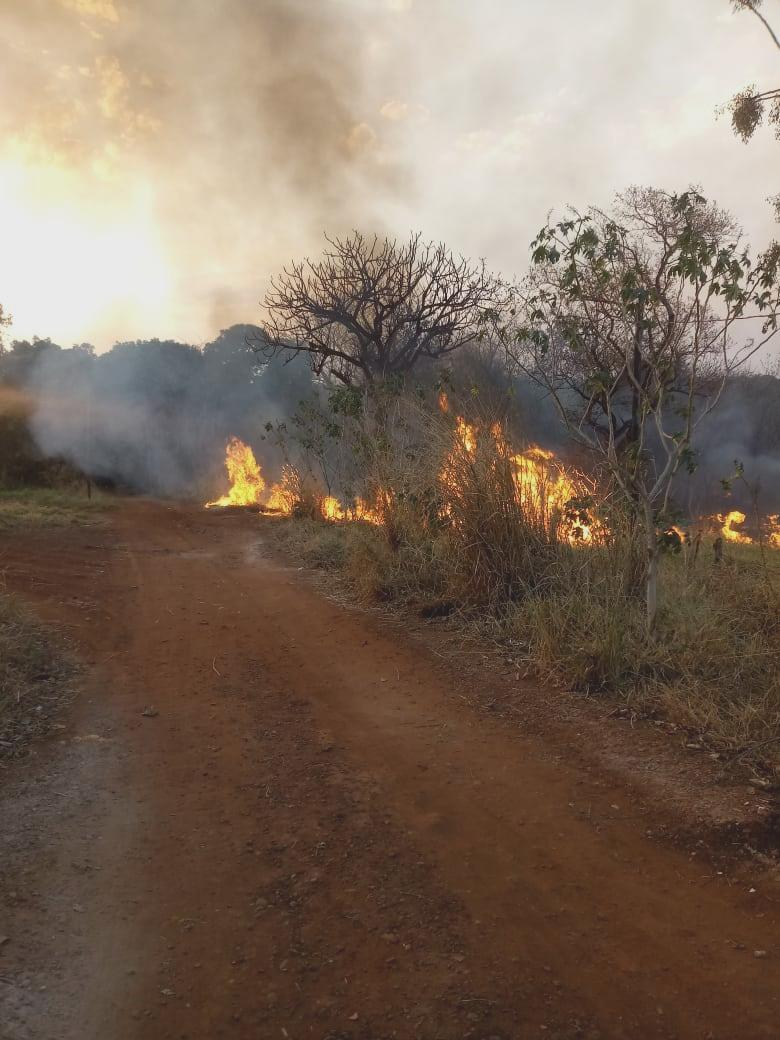Fire: (440, 412, 611, 546), (220, 441, 301, 522), (321, 487, 397, 526), (707, 510, 751, 546)
